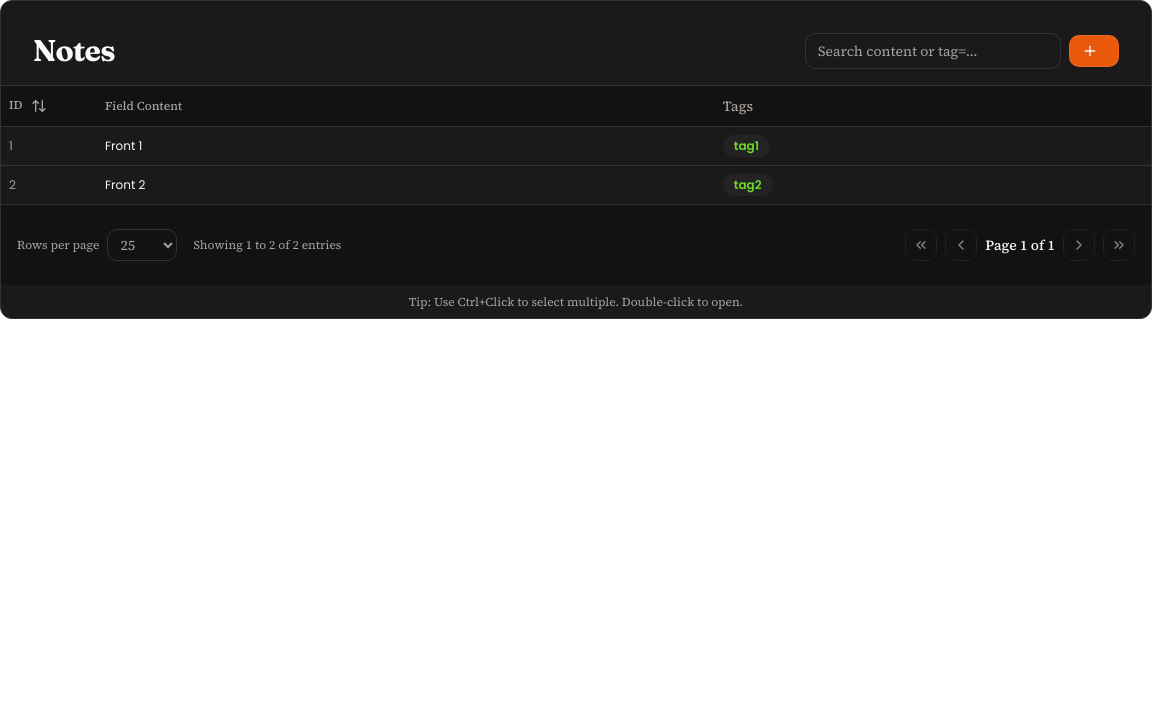
Test: NoteCRUD Component › opens bulk delete dialog when Delete key is pressed with selection
This screenshot has width=1152, height=720.
Expected: the text "Front 1" is shown, [105, 138, 142, 154]
Note: Select a note
Step 1. Click the text "Front 1" → (576, 146), box [1, 126, 1151, 165]
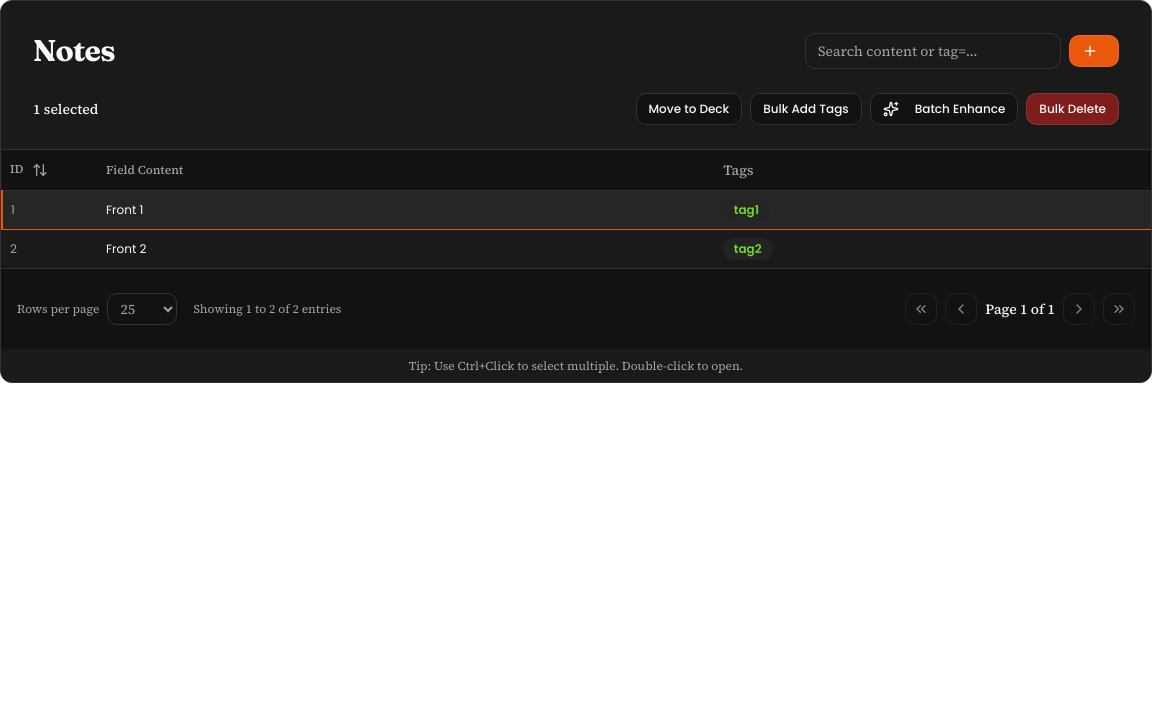
Note: Press Delete key
Step 2. Press Delete
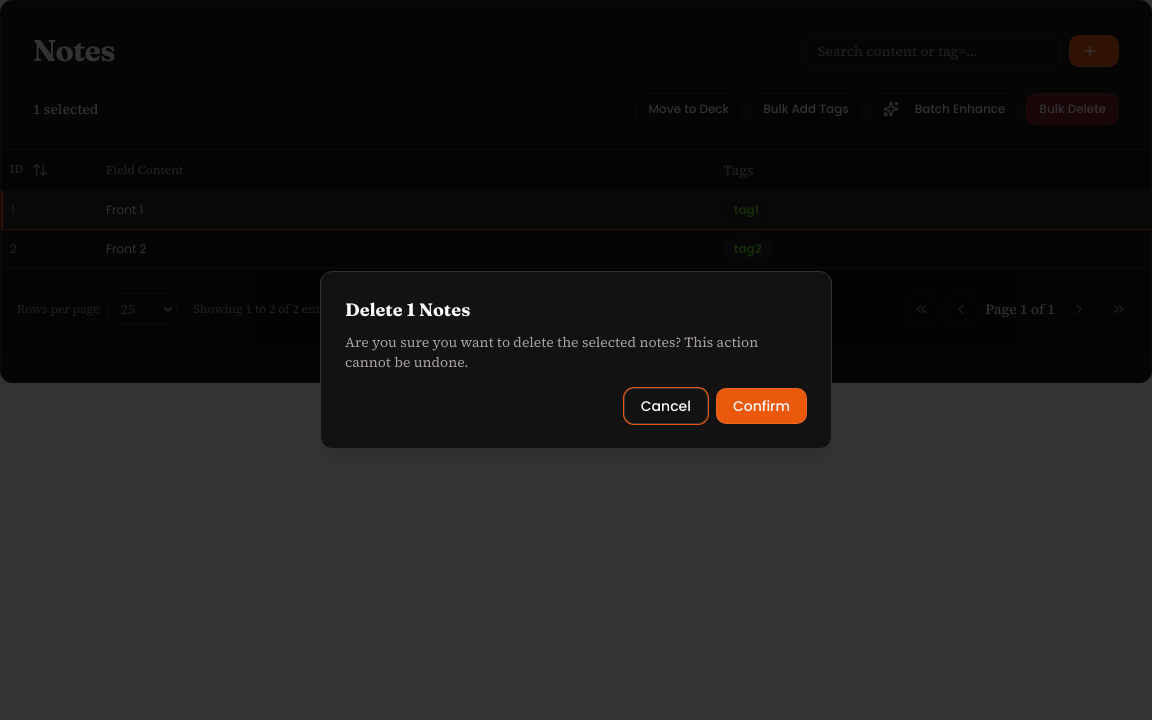
Expected: the heading "Delete 1 Notes" is shown, [345, 298, 470, 321]
